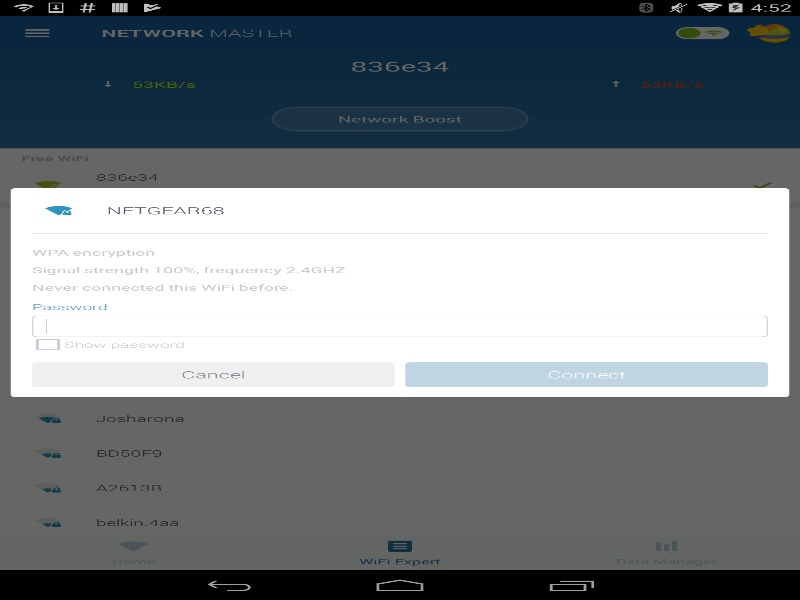Button: (405, 362, 768, 387), (32, 362, 394, 387)
Input: (32, 315, 768, 337)
